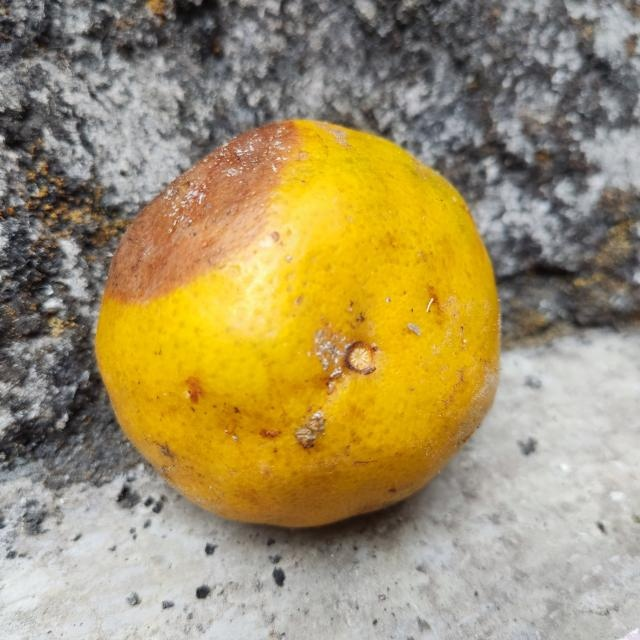agrume: (92, 118, 502, 526)
